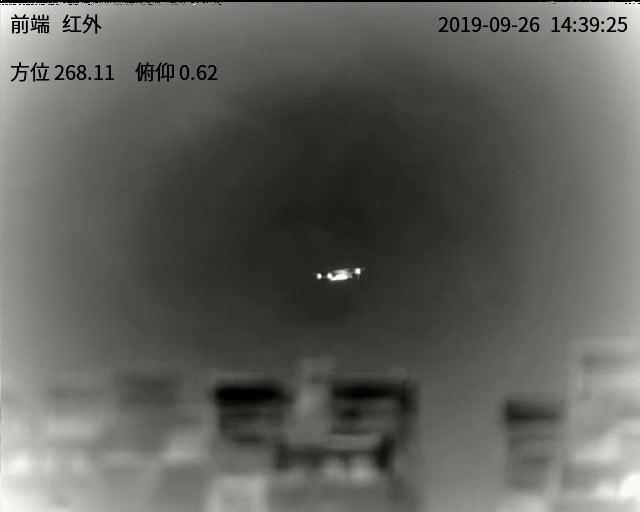DRONE: (314, 264, 366, 282)
